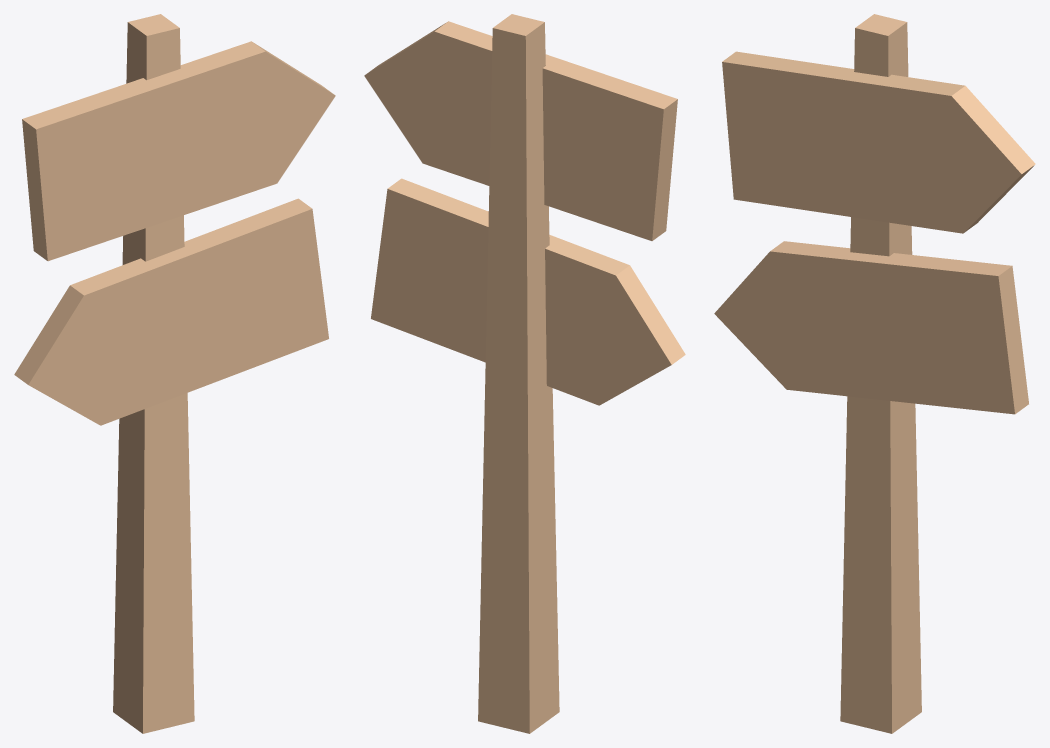
Rendered from signpost.glb.
The picture shows the model from 3 angles, left to right: view 1: azimuth 30°, elevation 25°; view 2: azimuth 150°, elevation 25°; view 3: azimuth 330°, elevation 25°; orthographic projection.
Parts seen in each view (by area): view 1: signpost; view 2: signpost; view 3: signpost.
Part boxes in pixels (bbox=[...]): signpost: bbox=[14, 14, 335, 733]; signpost: bbox=[364, 14, 685, 733]; signpost: bbox=[714, 14, 1035, 733].
Size of the model in its own units: 0.8565 by 1.84 by 0.1719.
